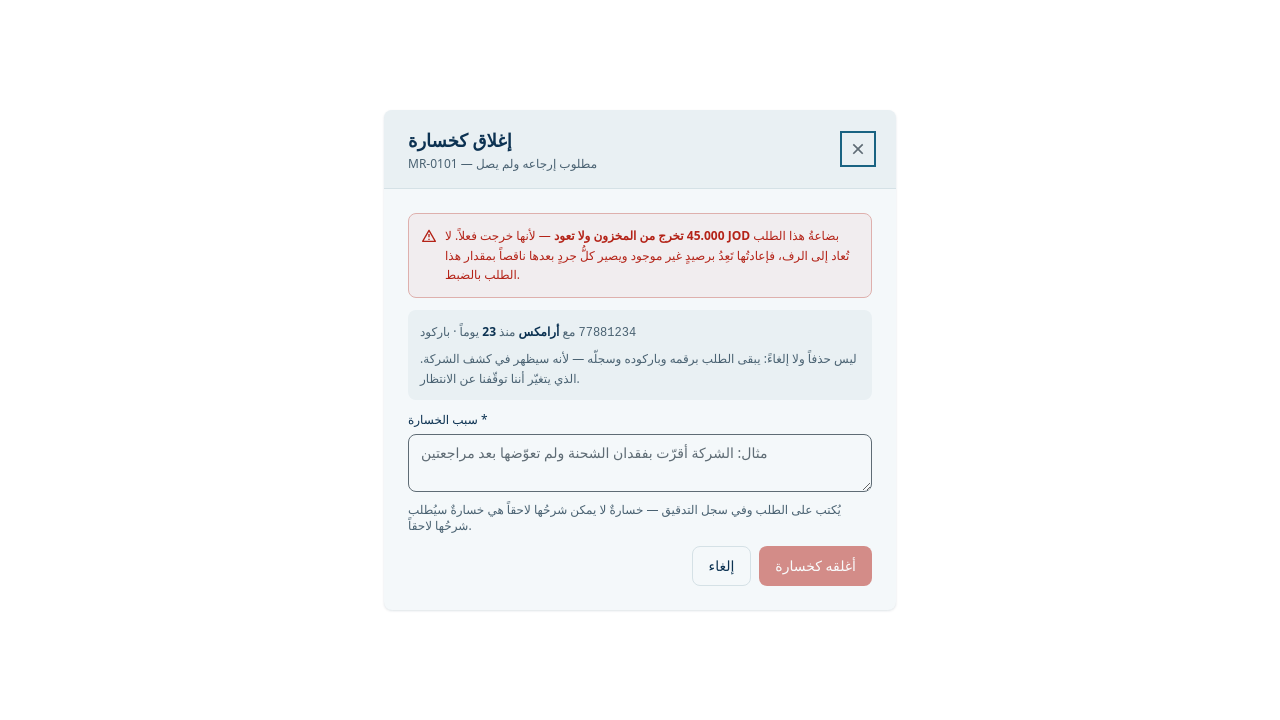
Test: what reaches the door › and the button does not come back, so an impatient second click is impossible
This screenshot has width=1280, height=720.
In the text box labelled "سبب الخسارة *": (640, 463) [408, 434, 872, 492], type "فقدان الشحنة"
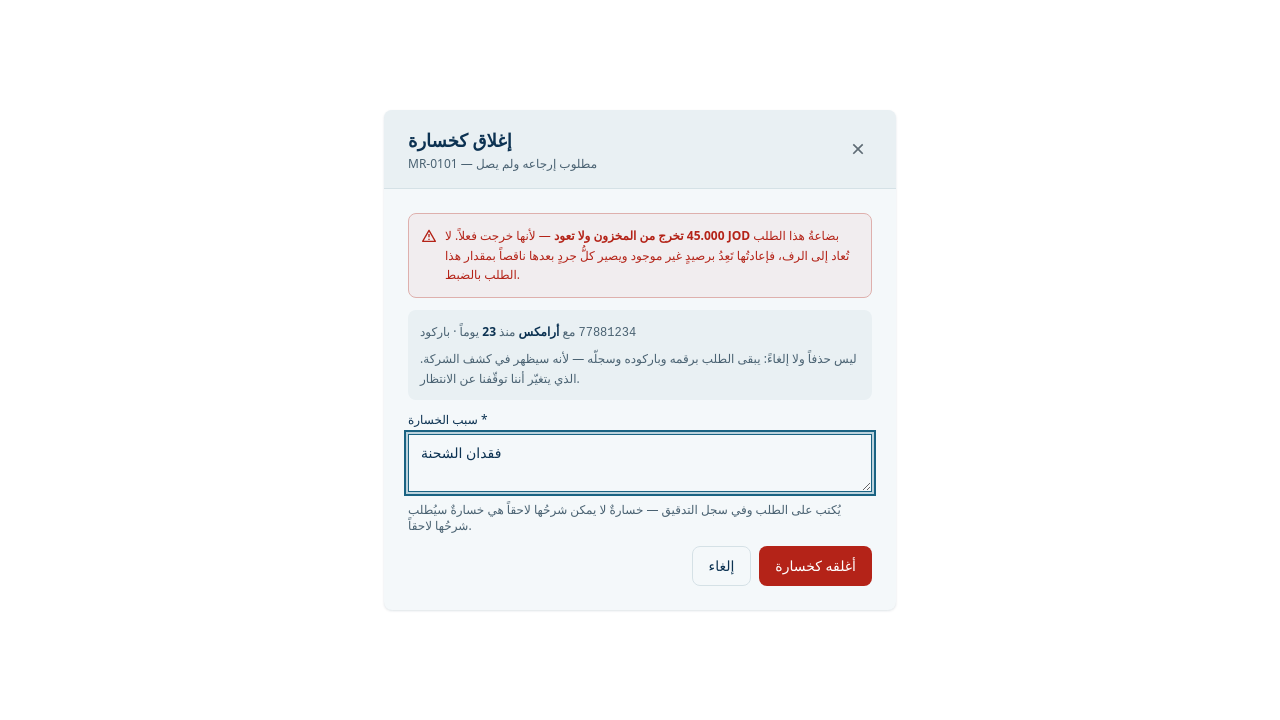
Click the submit button: (816, 566) [759, 546, 872, 586]
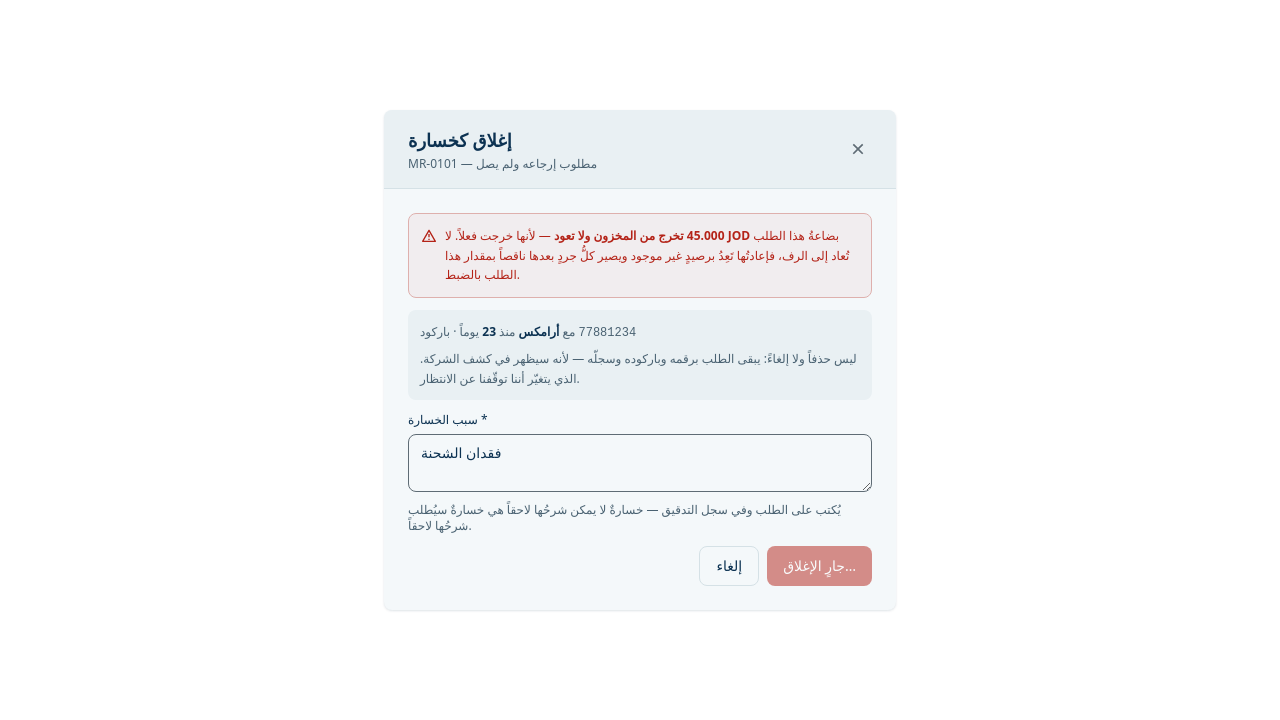
Now the submit button is disabled, box [767, 546, 872, 586]
